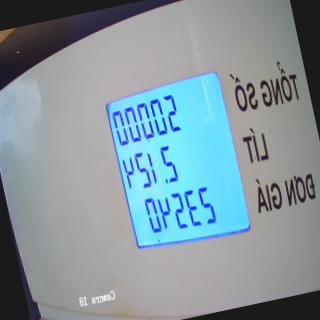screen: (98, 62, 255, 255)
